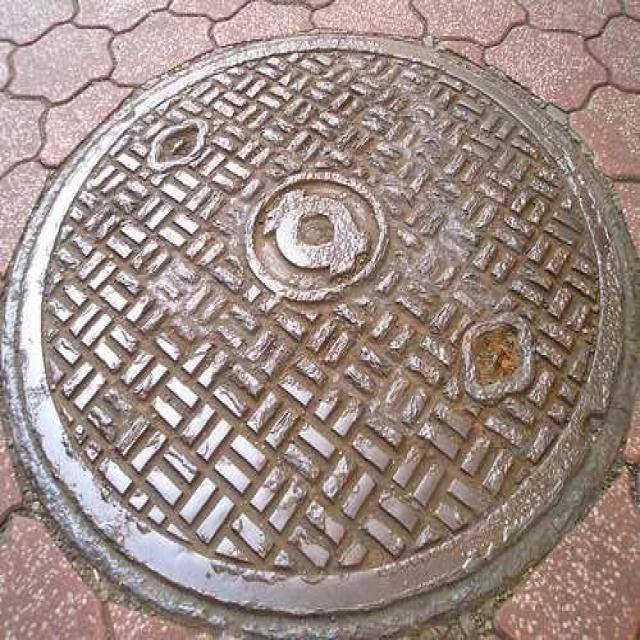manhole: (2, 35, 635, 635)
